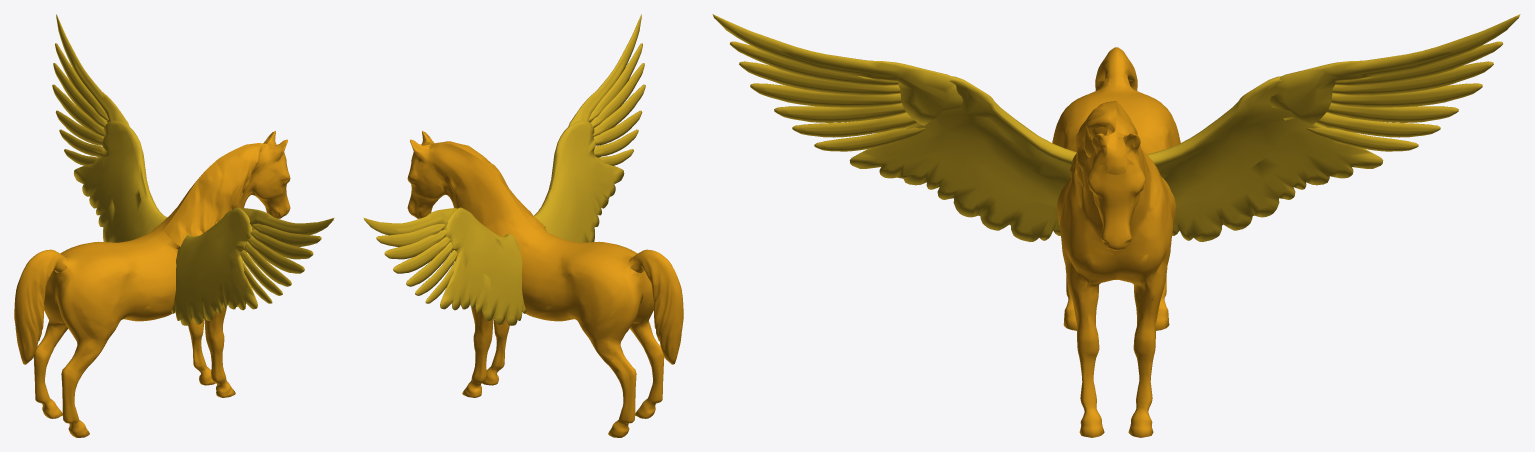
File: flyhorse.obj
The picture shows the model from 3 angles, left to right: view 1: azimuth 30°, elevation 25°; view 2: azimuth 150°, elevation 25°; view 3: azimuth 270°, elevation 25°; orthographic projection. The views are drawn at different scales.
Visible parts, largest first — view 1: Object02, Object01; view 2: Object02, Object01; view 3: Object01, Object02.
Boxes of the visible parts, left/top/right/bottom form: Object02: left=14, top=131, right=290, bottom=437; Object01: left=52, top=14, right=334, bottom=325; Object02: left=407, top=131, right=683, bottom=437; Object01: left=363, top=14, right=645, bottom=325; Object01: left=712, top=14, right=1520, bottom=241; Object02: left=1052, top=47, right=1180, bottom=437.
Bounding box in the file's own units: 24.34 × 23.76 × 43.07.
